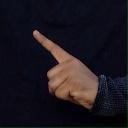hand: (32, 29, 99, 110)
